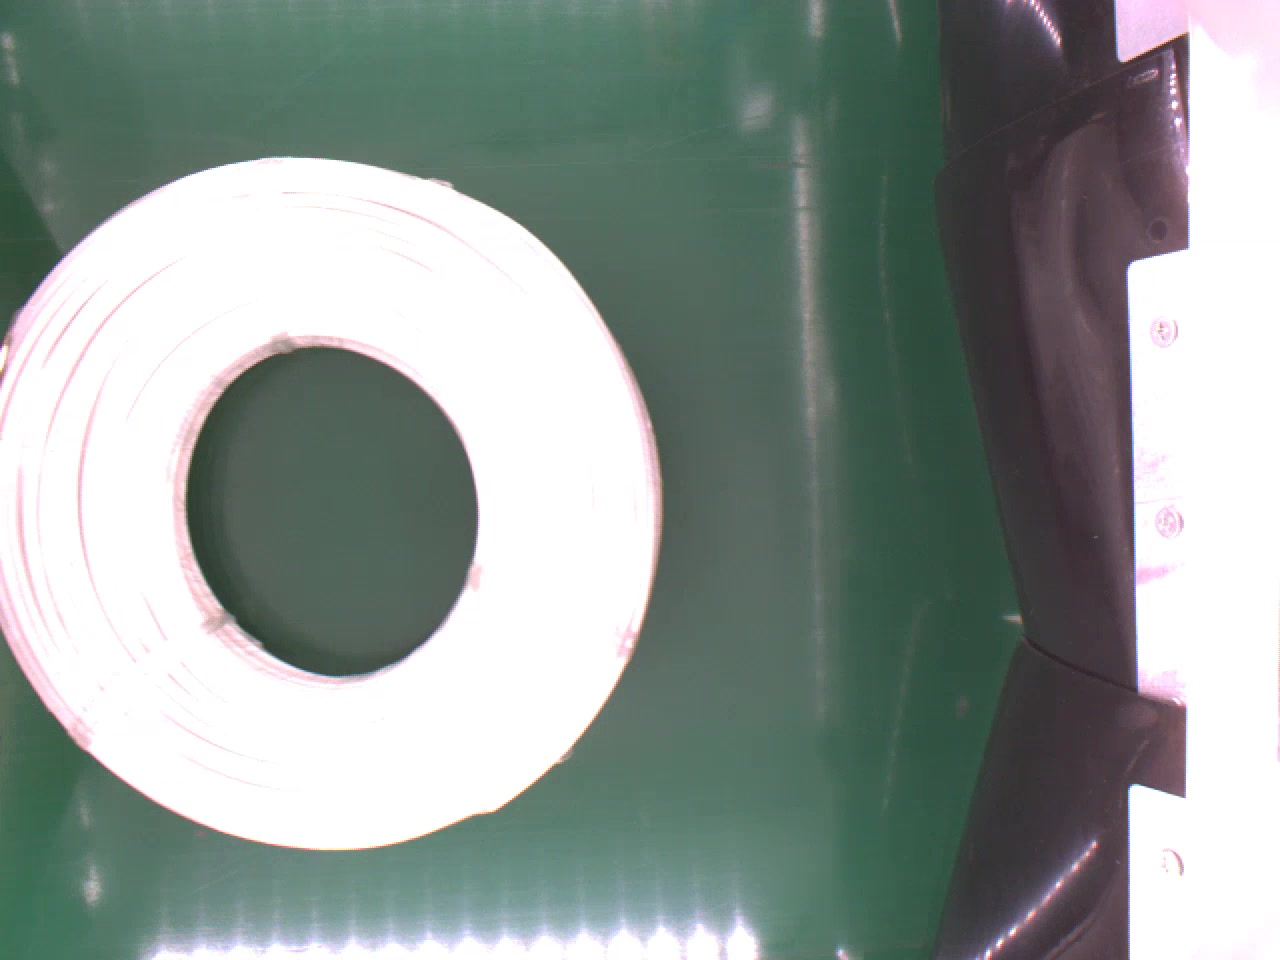white: (0, 151, 666, 858)
